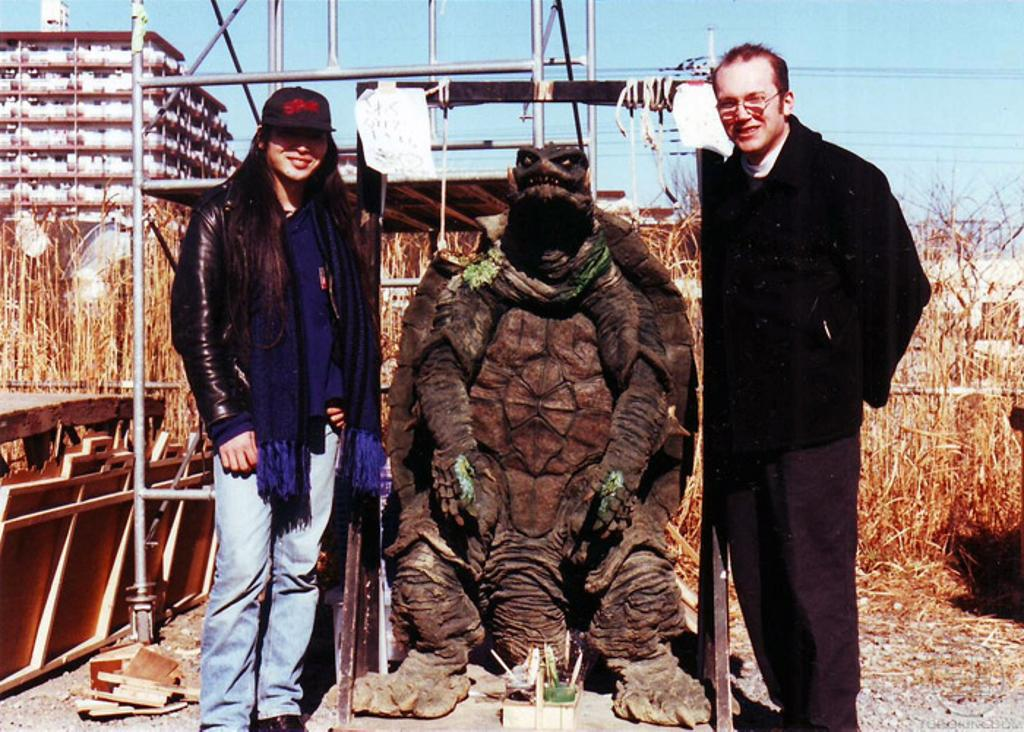face: (722, 62, 784, 150), (270, 110, 326, 188)
